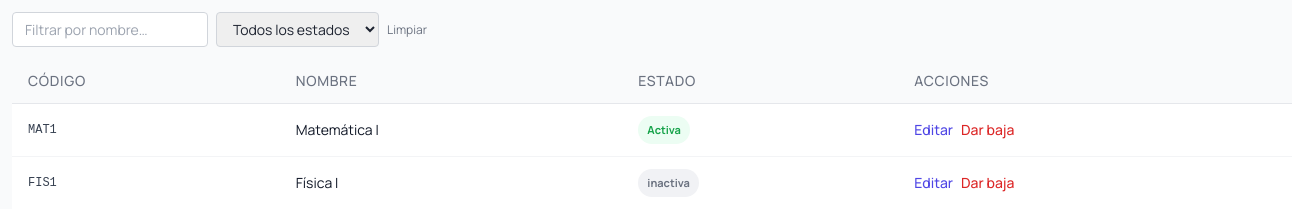
it: MateriasTable › filters by nombre substring
Type "Mate" into the field with placeholder "Filtrar por nombre…" at (110, 30), box [12,12,208,47]
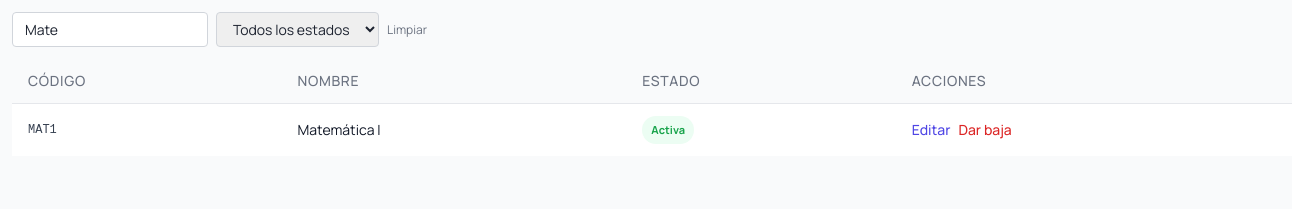
Check: the text "Matemática I" is shown, box [282,104,626,156]
Check: the text "Física I" is gone
